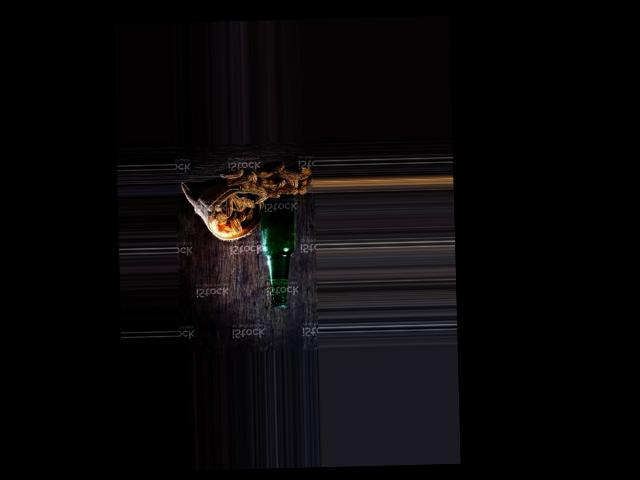beer: (259, 185, 297, 308)
